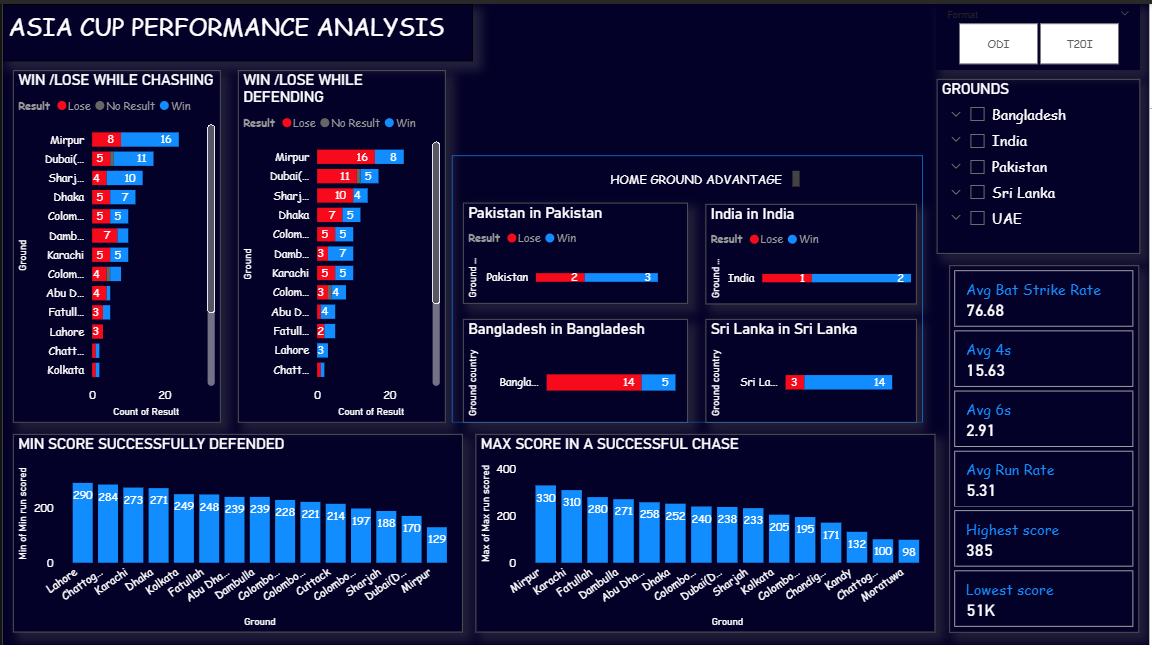

The page's visual inventory and layout, read from the dashboard file:
{"tool":"powerbi","page":{"name":"GROUND","canvas":[1280,720],"ordinal":1},"visuals":[{"type":"textbox","box":[0,0,525,64.2],"z":0},{"type":"clusteredColumnChart","title":"MIN SCORE SUCCESSFULLY DEFENDED","fields":{"Category":["Ground.Ground"],"Y":["Min(Ground.Min run scored)"]},"box":[11.2,480.3,502.6,222],"z":1000},{"type":"clusteredColumnChart","title":"MAX SCORE IN A SUCCESSFUL CHASE","fields":{"Category":["Ground.Ground"],"Y":["Max(Ground.Max run scored)"]},"box":[527.8,480.3,513.8,222],"z":2000},{"type":"slicer","fields":{"Values":["Ground.Format"]},"box":[1041.5,0,229,74],"z":3000},{"type":"slicer","title":"GROUNDS","fields":{"Values":["asiacup.Ground country","asiacup.Ground"]},"box":[1042.9,83.8,227.6,195.5],"z":4000},{"type":"barChart","title":"WIN /LOSE  WHILE CHASHING","fields":{"Category":["asiacup.Ground"],"Y":["CountNonNull(asiacup.Result)"],"Series":["asiacup.Result"]},"box":[11.2,74,231.8,393.7],"z":5000},{"type":"barChart","title":"WIN /LOSE  WHILE DEFENDING","fields":{"Category":["asiacup.Ground"],"Y":["CountNonNull(asiacup.Result)"],"Series":["asiacup.Result"]},"box":[262.5,74,231.8,393.7],"z":6000},{"type":"cardVisual","fields":{"Data":["Avg(asiacup.Avg Bat Strike Rate)","Avg(asiacup.Fours)","Avg(asiacup.Sixes)","Avg(asiacup.Run Rate)","Max(asiacup.Run Scored)","Sum(asiacup.Run Scored)1"]},"box":[1056.9,291.8,212.2,410.5],"z":7000},{"type":"barChart","title":"Bangladesh in Bangladesh","fields":{"Category":["asiacup.Ground country"],"Y":["CountNonNull(asiacup.Result)"],"Series":["asiacup.Result"]},"box":[513.8,351.8,251.3,115.9],"z":8000},{"type":"barChart","title":" Pakistan in Pakistan ","fields":{"Category":["asiacup.Ground country"],"Y":["CountNonNull(asiacup.Result)"],"Series":["asiacup.Result"]},"box":[513.8,222,251.3,113.1],"z":9000},{"type":"barChart","title":"Sri Lanka in Sri Lanka","fields":{"Category":["asiacup.Ground country"],"Series":["asiacup.Result"],"Y":["CountNonNull(asiacup.Result)"]},"box":[784.6,351.8,236,115.9],"z":10000},{"type":"barChart","title":"India in India","fields":{"Category":["asiacup.Ground country"],"Y":["CountNonNull(asiacup.Result)"],"Series":["asiacup.Result"]},"box":[784.6,223.4,236,111.7],"z":11000},{"type":"textbox","box":[673,181.5,222,27.9],"z":13000},{"type":"shape","box":[501.2,168.9,526.4,298.8],"z":13001}]}

Visuals, with their boxes in screenshot pixels (x1, y1, x2, y2), scaled from the page's 1280x720 canvas onto the 1152x645 screenshot:
textbox: Rect(0, 0, 472, 58)
"MIN SCORE SUCCESSFULLY DEFENDED" clusteredColumnChart: Rect(10, 430, 462, 629)
"MAX SCORE IN A SUCCESSFUL CHASE" clusteredColumnChart: Rect(475, 430, 937, 629)
slicer - Ground.Format: Rect(937, 0, 1143, 66)
"GROUNDS" slicer: Rect(939, 75, 1143, 250)
"WIN /LOSE  WHILE CHASHING" barChart: Rect(10, 66, 219, 419)
"WIN /LOSE  WHILE DEFENDING" barChart: Rect(236, 66, 445, 419)
cardVisual - Avg(asiacup.Avg Bat Strike Rate) x Avg(asiacup.Fours): Rect(951, 261, 1142, 629)
"Bangladesh in Bangladesh" barChart: Rect(462, 315, 689, 419)
" Pakistan in Pakistan " barChart: Rect(462, 199, 689, 300)
"Sri Lanka in Sri Lanka" barChart: Rect(706, 315, 919, 419)
"India in India" barChart: Rect(706, 200, 919, 300)
textbox: Rect(606, 163, 806, 188)
shape: Rect(451, 151, 925, 419)
